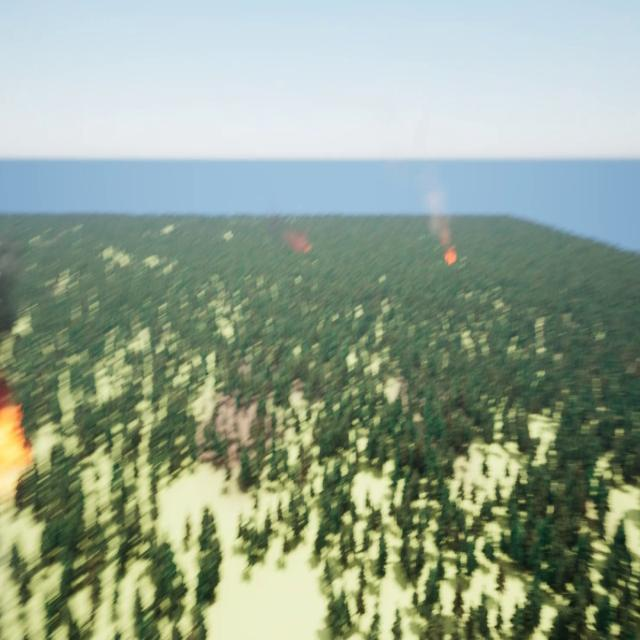fire: (0, 398, 34, 472), (443, 247, 459, 262)
smoke: (426, 185, 454, 245), (287, 227, 314, 252)
